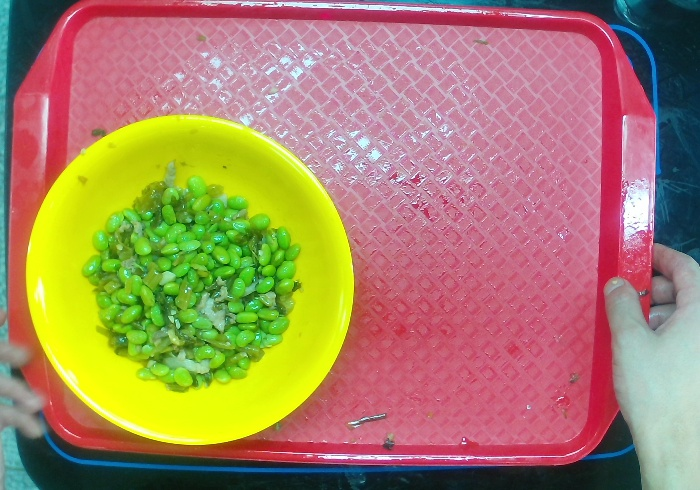YKMZ-Huang_Se_Tang_Wan: (14, 104, 369, 456)
